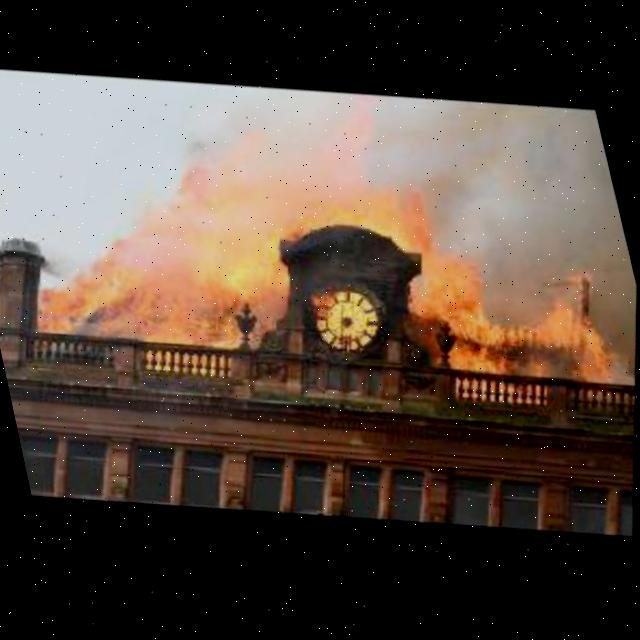fire: (9, 127, 511, 515), (464, 255, 636, 417)
